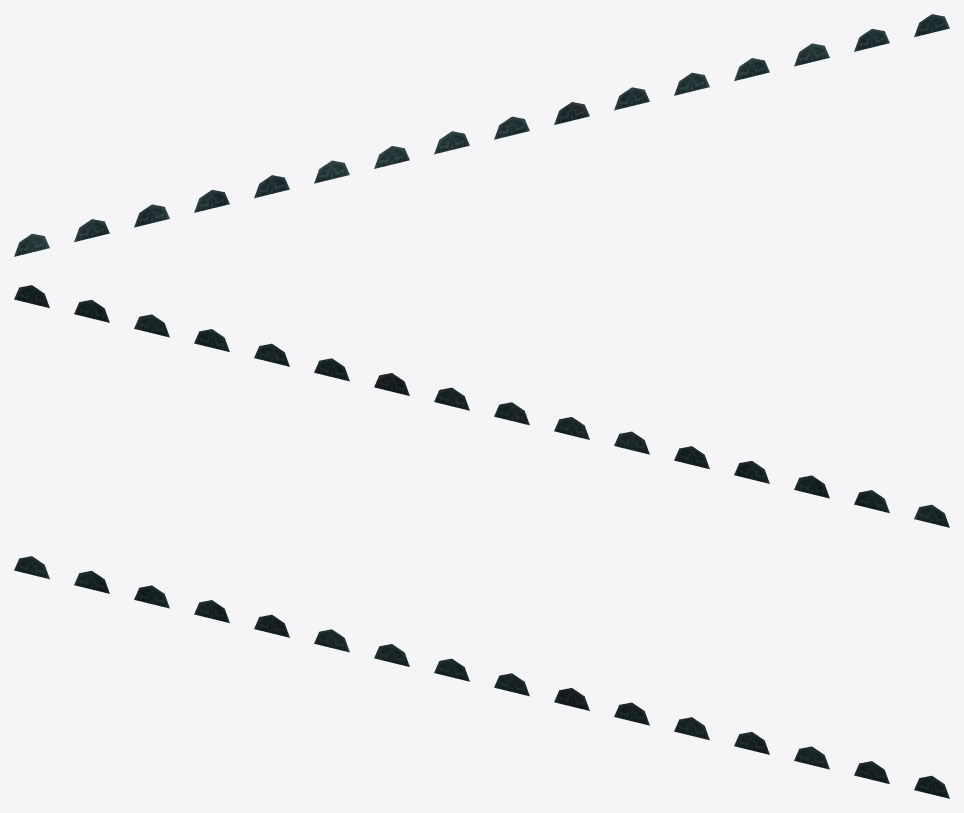
The model's file is palace-tiledang.fbx.
3 renders of one model, top to bottom at view 1: azimuth 30°, elevation 25°; view 2: azimuth 150°, elevation 25°; view 3: azimuth 330°, elevation 25°, orthographic.
Visible parts, largest first — view 1: Plane.007_Baked; view 2: Plane.007_Baked; view 3: Plane.007_Baked.
Part boxes in pixels (bbox=[...]): Plane.007_Baked: bbox=[14, 14, 949, 256]; Plane.007_Baked: bbox=[14, 285, 949, 527]; Plane.007_Baked: bbox=[14, 556, 949, 798].
Size of the model in its own units: 780 by 15 by 2.44e-06.
